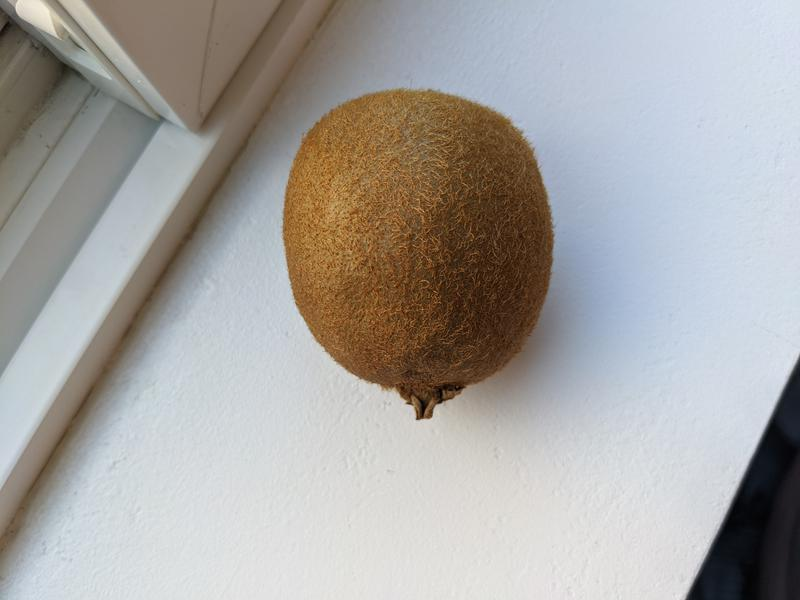kiwi: (280, 88, 556, 421)
